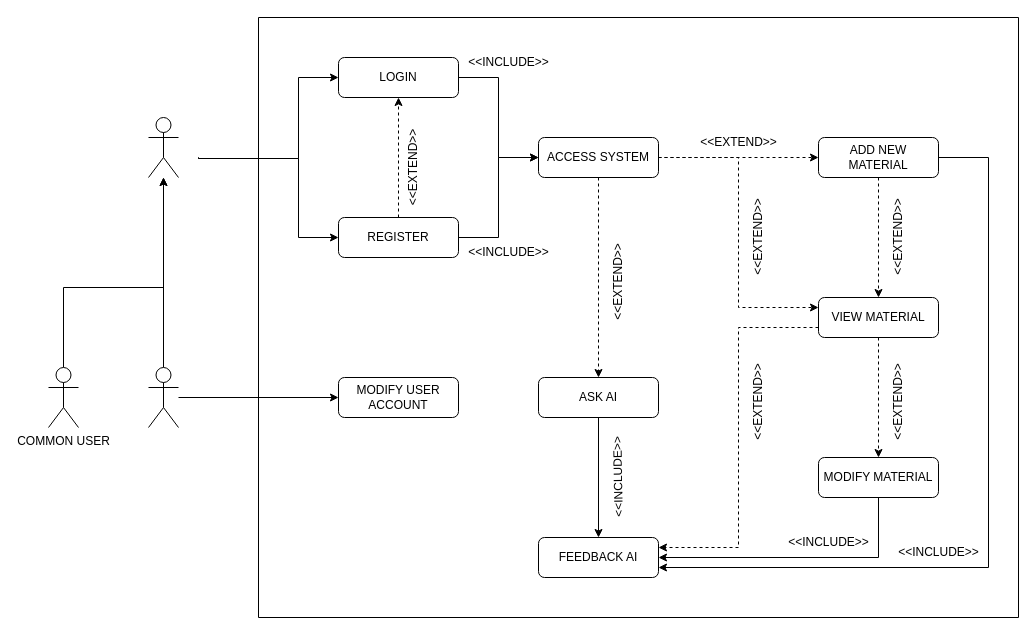
Some shapes in this 1036 by 635 pixel diagram are drawn without their labels. Here are the shapes that lost their labels. From the top down, the box of each, then its label:
(148, 116, 178, 178): USER
(148, 366, 178, 428): ADMIN
